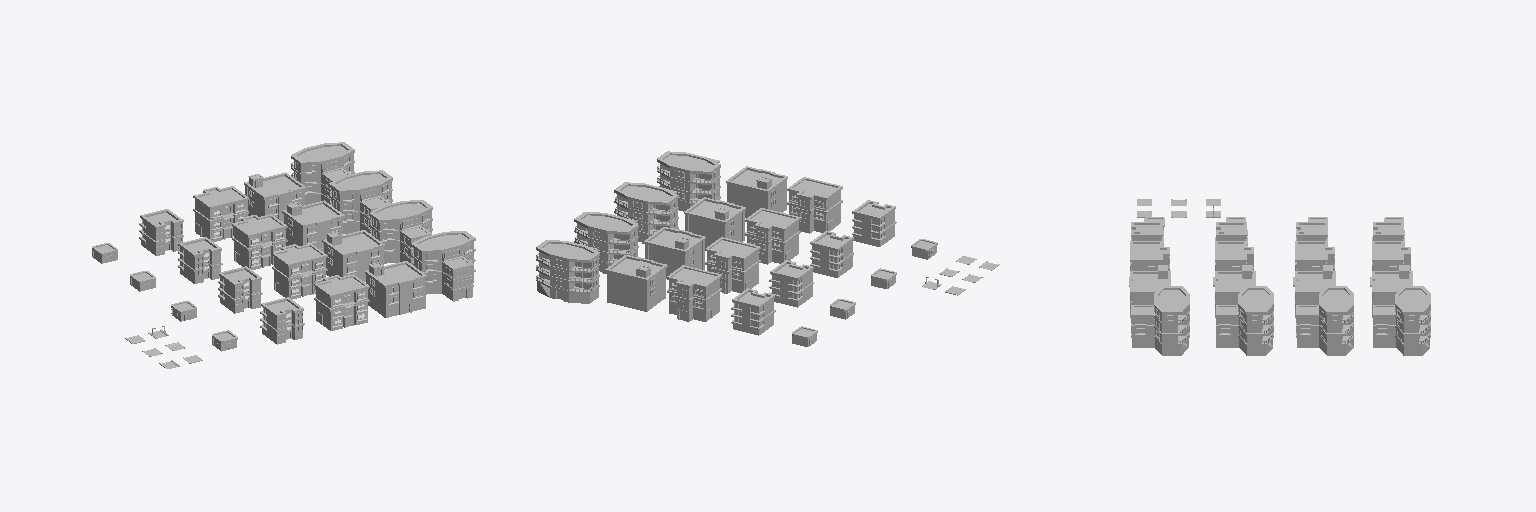
Rendered from Free City Pack.obj.
3 renders of one model, left to right at view 1: azimuth 30°, elevation 25°; view 2: azimuth 150°, elevation 25°; view 3: azimuth 270°, elevation 25°, orthographic.
Parts seen in each view (by area): view 1: Big_Apartments, Big_Apartments.001, Medium_Apartments, Big_Apartments.002, Big_Apartments.003, Apartments, Apartments.001, Apartments.002, Apartments.003, Medium_Apartments.001, Medium_Apartments.002, Medium_Apartments.003 (+4 smaller); view 2: Big_Apartments.003, Medium_Apartments.003, Big_Apartments, Big_Apartments.001, Big_Apartments.002, Apartments.003, Apartments, Apartments.001, Apartments.002, Medium_Apartments, Medium_Apartments.001, Medium_Apartments.002 (+4 smaller); view 3: Big_Apartments, Big_Apartments.001, Big_Apartments.003, Big_Apartments.002, Medium_Apartments.002, Medium_Apartments.001, Medium_Apartments.003, Medium_Apartments, Apartments, Apartments.002, Apartments.001, Apartments.003 (+4 smaller).
Boxes of the visible parts, box(x1,y1,x2,y2) form: Big_Apartments: box(411, 231, 475, 301); Big_Apartments.001: box(369, 200, 432, 263); Medium_Apartments: box(365, 261, 426, 317); Big_Apartments.002: box(329, 170, 392, 233); Big_Apartments.003: box(291, 142, 354, 204); Apartments: box(314, 274, 369, 330); Apartments.001: box(272, 243, 327, 299); Apartments.002: box(232, 214, 287, 269); Apartments.003: box(193, 186, 248, 241); Medium_Apartments.001: box(322, 230, 384, 281); Medium_Apartments.002: box(282, 200, 344, 251); Medium_Apartments.003: box(244, 172, 306, 222); Big_Apartments.003: box(536, 240, 599, 303); Medium_Apartments.003: box(605, 255, 667, 311); Big_Apartments: box(657, 151, 720, 211); Big_Apartments.001: box(614, 182, 678, 243); Big_Apartments.002: box(574, 212, 638, 273); Apartments.003: box(667, 265, 721, 321); Apartments: box(787, 177, 842, 233); Apartments.001: box(745, 208, 800, 264); Apartments.002: box(705, 237, 760, 293); Medium_Apartments: box(726, 166, 787, 218); Medium_Apartments.001: box(684, 197, 745, 248); Medium_Apartments.002: box(644, 227, 705, 279); Big_Apartments: box(1131, 286, 1189, 355); Big_Apartments.001: box(1216, 286, 1273, 355); Big_Apartments.003: box(1373, 286, 1430, 355); Big_Apartments.002: box(1296, 286, 1353, 355); Medium_Apartments.002: box(1293, 265, 1335, 317); Medium_Apartments.001: box(1213, 265, 1255, 317); Medium_Apartments.003: box(1370, 265, 1412, 317); Medium_Apartments: box(1129, 265, 1170, 317); Apartments: box(1130, 241, 1169, 270); Apartments.002: box(1295, 241, 1334, 270); Apartments.001: box(1215, 241, 1253, 270); Apartments.003: box(1372, 241, 1410, 270).
Size of the model in its own units: 24.35 by 3.23 by 19.88.